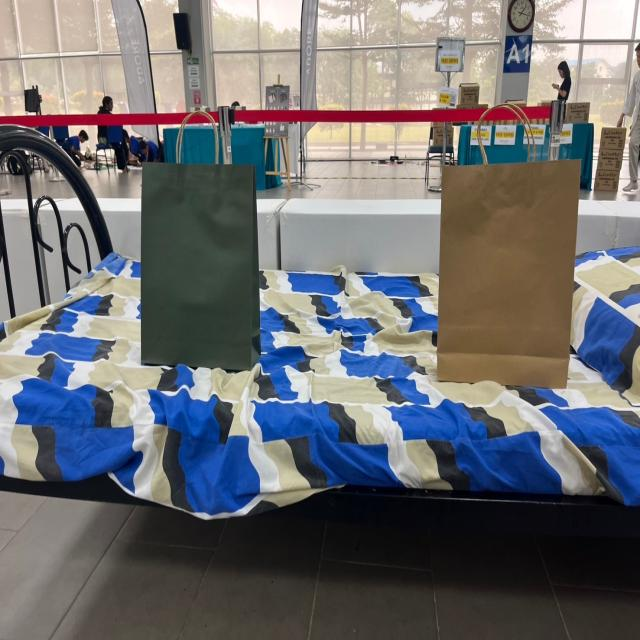bag: (449, 103, 564, 375), (144, 112, 252, 352)
